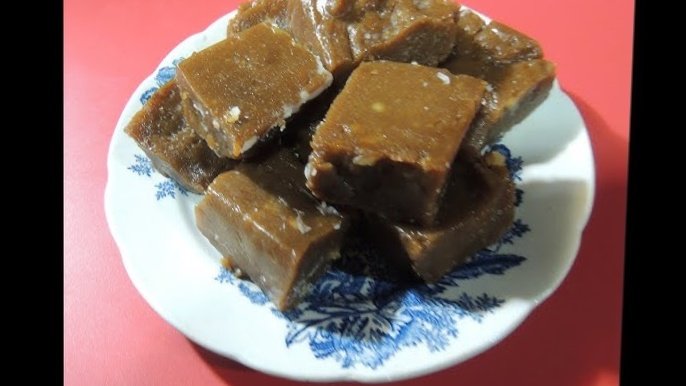dodol: (304, 51, 492, 228), (190, 148, 353, 314), (176, 15, 335, 159)
